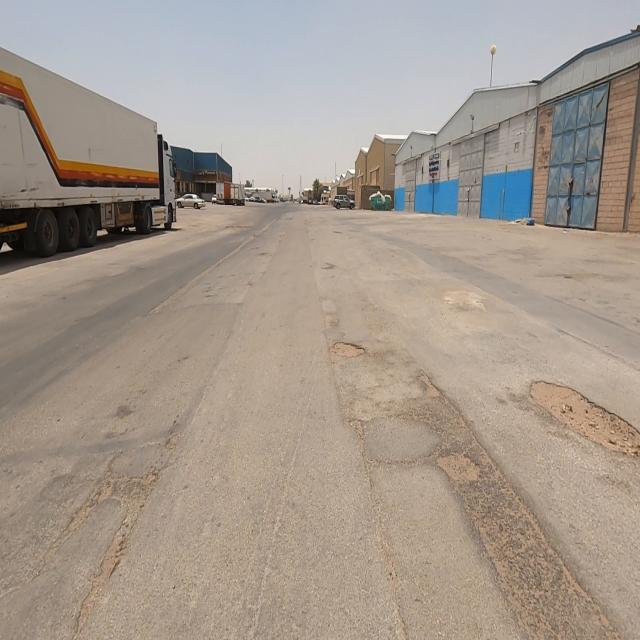Pothole: (416, 373, 618, 638), (531, 382, 640, 456), (436, 453, 480, 482), (332, 342, 364, 358), (421, 373, 440, 398)
